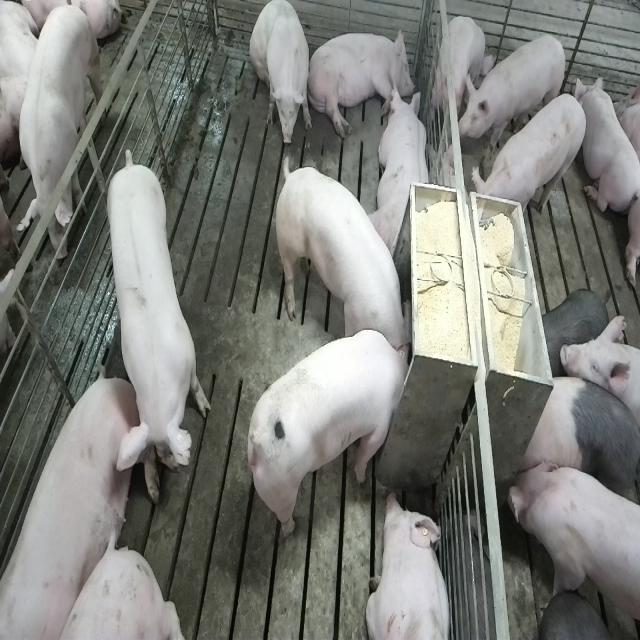Feeding: (250, 328, 420, 539), (272, 160, 409, 359)
Lateral_lying: (306, 26, 418, 140)
Sitting: (251, 0, 312, 147)
Standing: (106, 146, 210, 488), (11, 5, 106, 267), (504, 458, 638, 640), (514, 374, 637, 510), (472, 92, 589, 230), (459, 33, 569, 158), (429, 13, 484, 132), (535, 590, 633, 640)
Sternal_lying: (367, 490, 454, 640), (372, 85, 433, 262), (579, 74, 638, 220)
